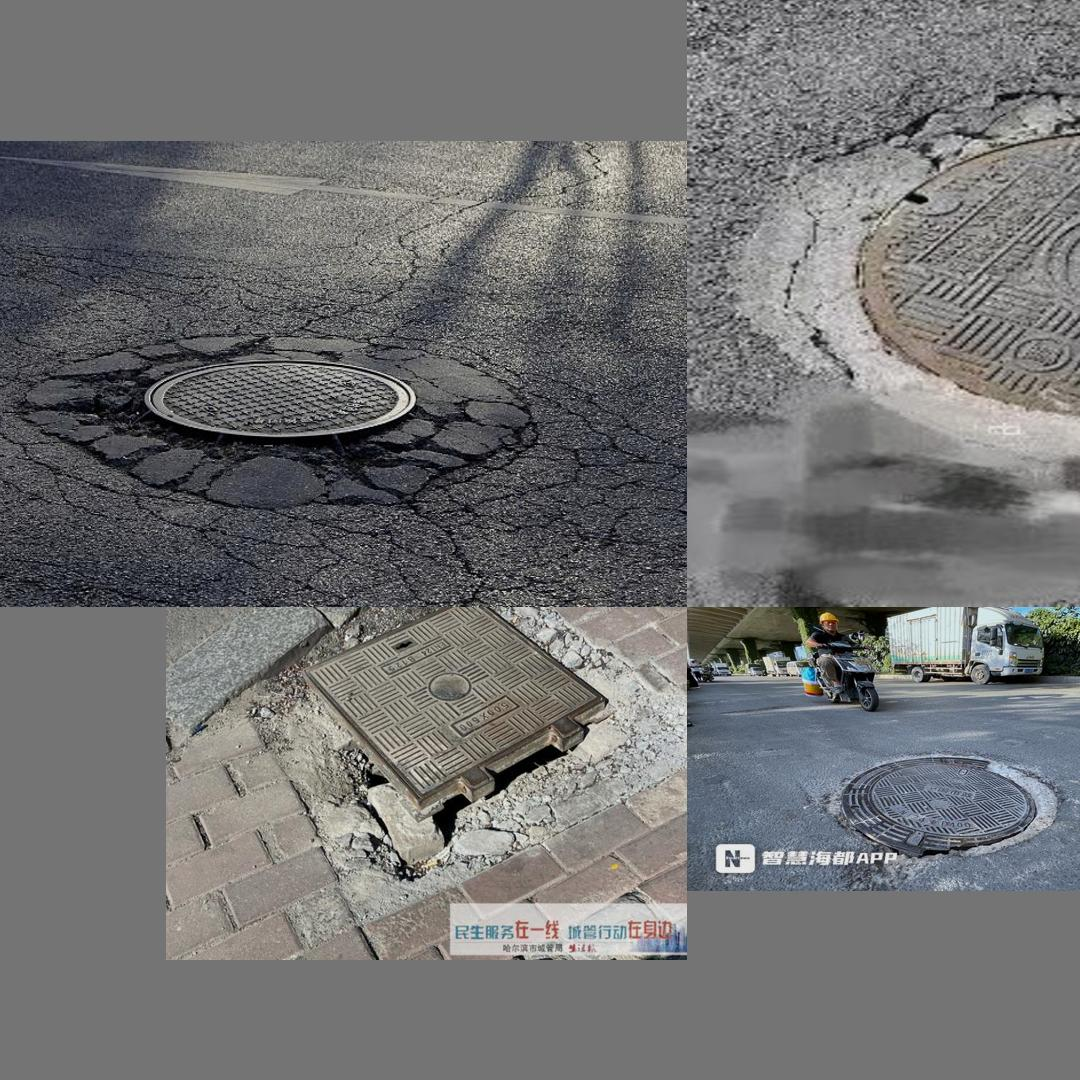circle: (747, 91, 1080, 475), (250, 612, 682, 888), (48, 313, 541, 528), (799, 740, 1080, 869)
good: (816, 0, 1080, 2)
